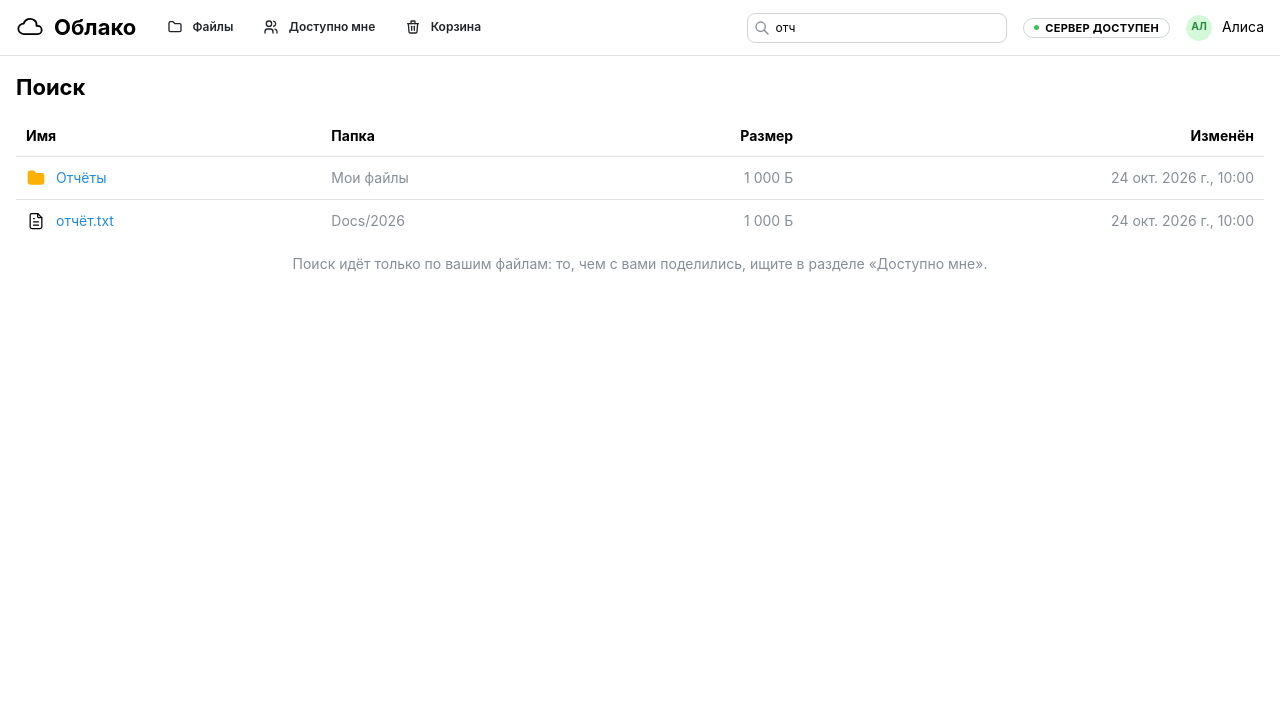
Scenario: SearchPage › shows results with their folders, and opens a folder
Check: the text "Поиск идёт только по вашим файлам" is shown, box [293,255,988,272]
// The folder column leads to the folder the result is in.
Click the link with aria-label "Открыть папку «Docs/2026»" at {"x": 368, "y": 221}, box [331,212,405,229]
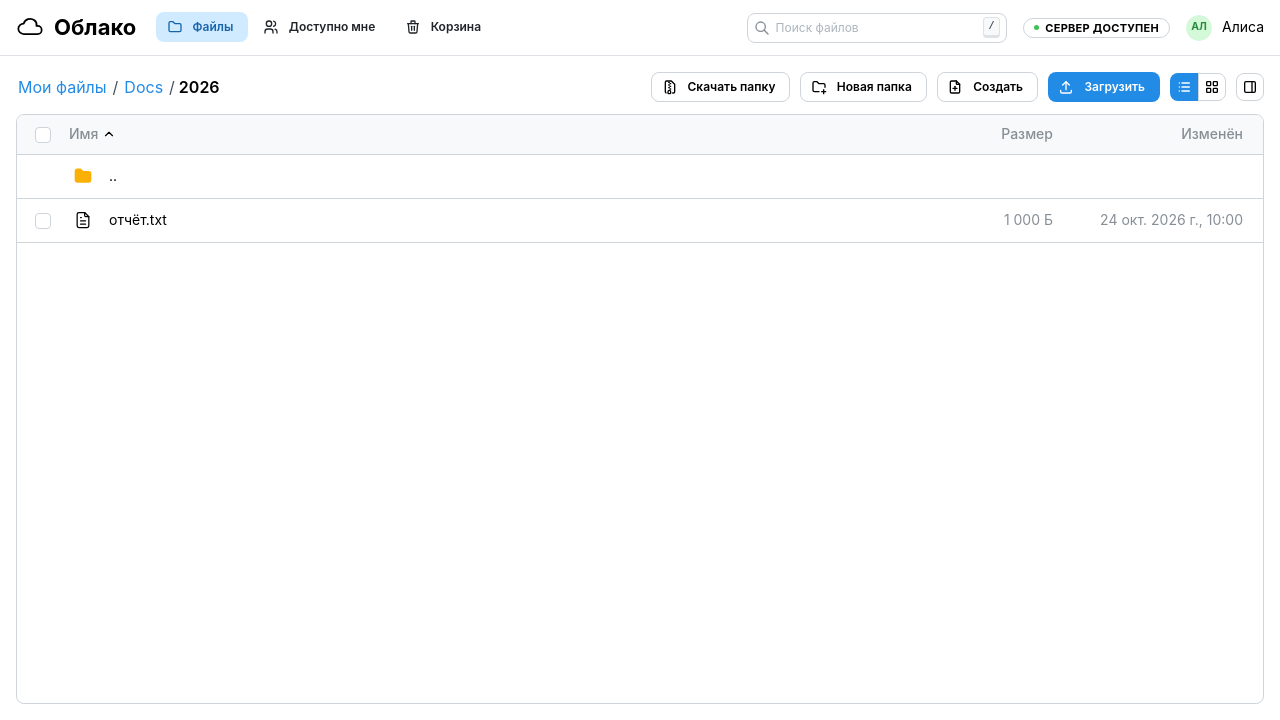
Check: the list is shown, box [17,155,1263,243]
